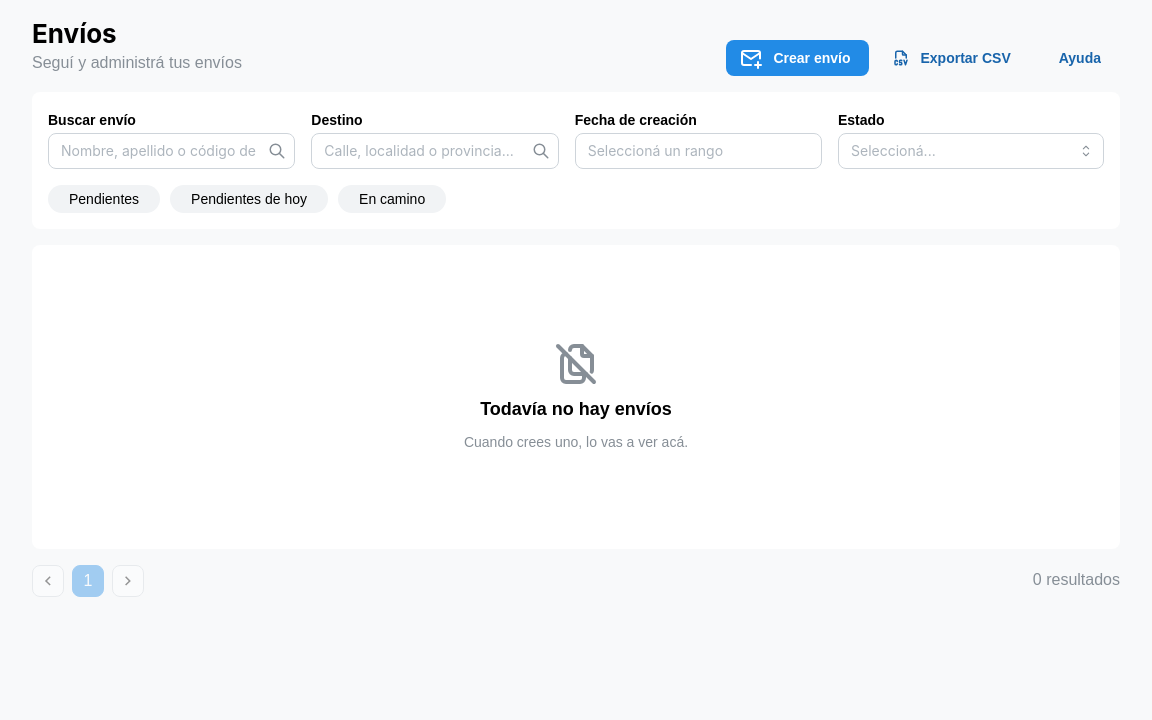
it: ListaEnvios › estado "vacío con filtros" muestra un CTA que limpia los filtros y vuelve a pedir sin ellos
The image size is (1152, 720).
Type "NoMatch" into the field labelled "Buscar envío" at (172, 151), box [48, 133, 295, 169]
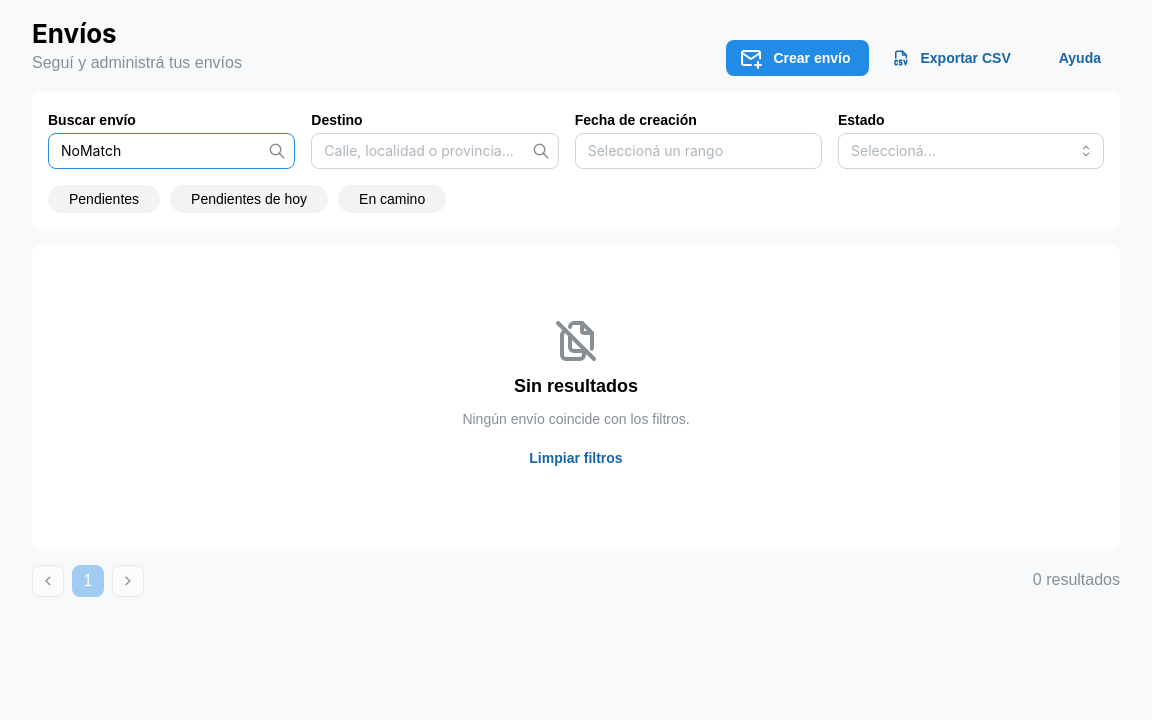
Result: the text "Sin resultados" is shown at [514, 375, 638, 398]
Click the button "Limpiar filtros" at (576, 458), box [510, 440, 642, 476]
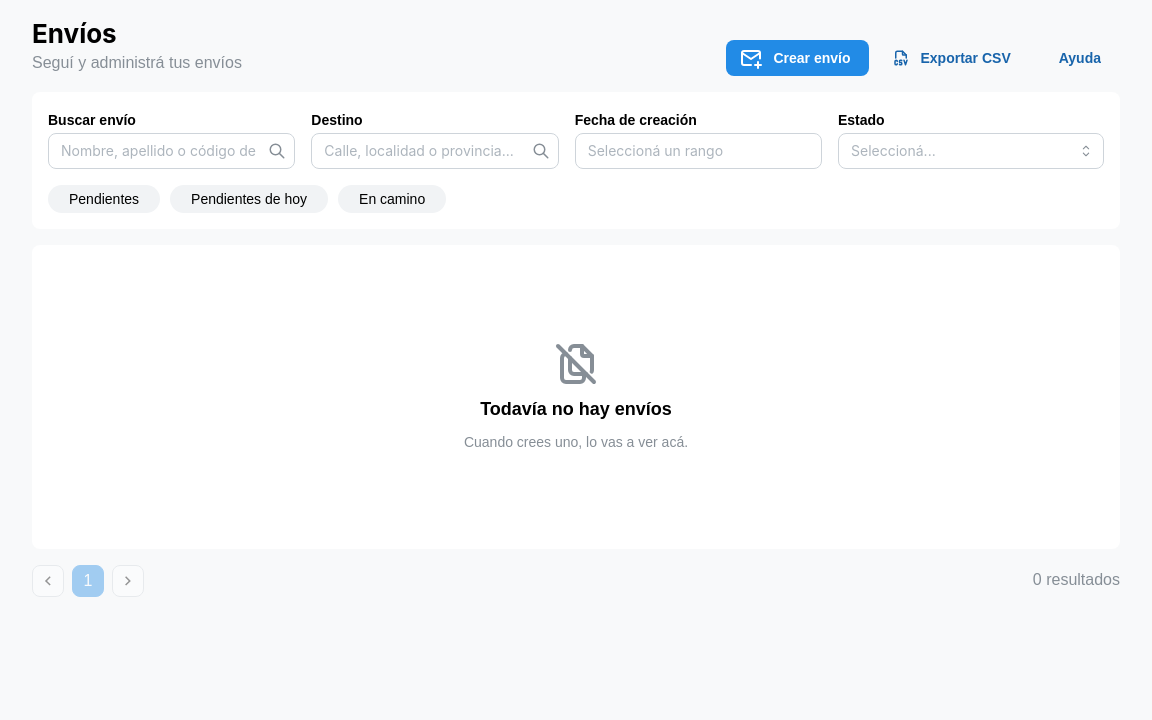
Result: the field labelled "Buscar envío" is empty at [48, 133, 295, 169]
